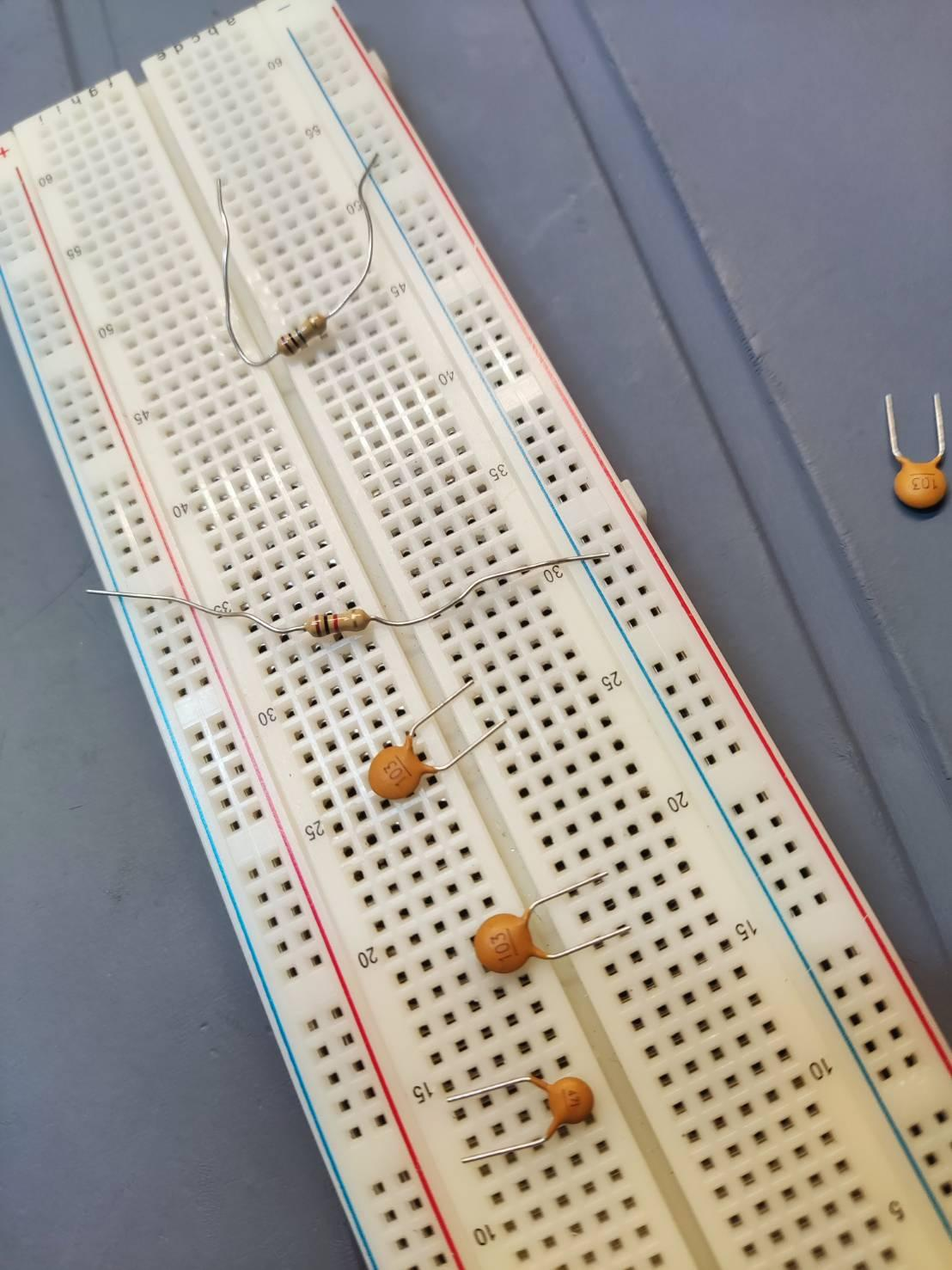resistor: (299, 605, 375, 645), (270, 308, 328, 356)
